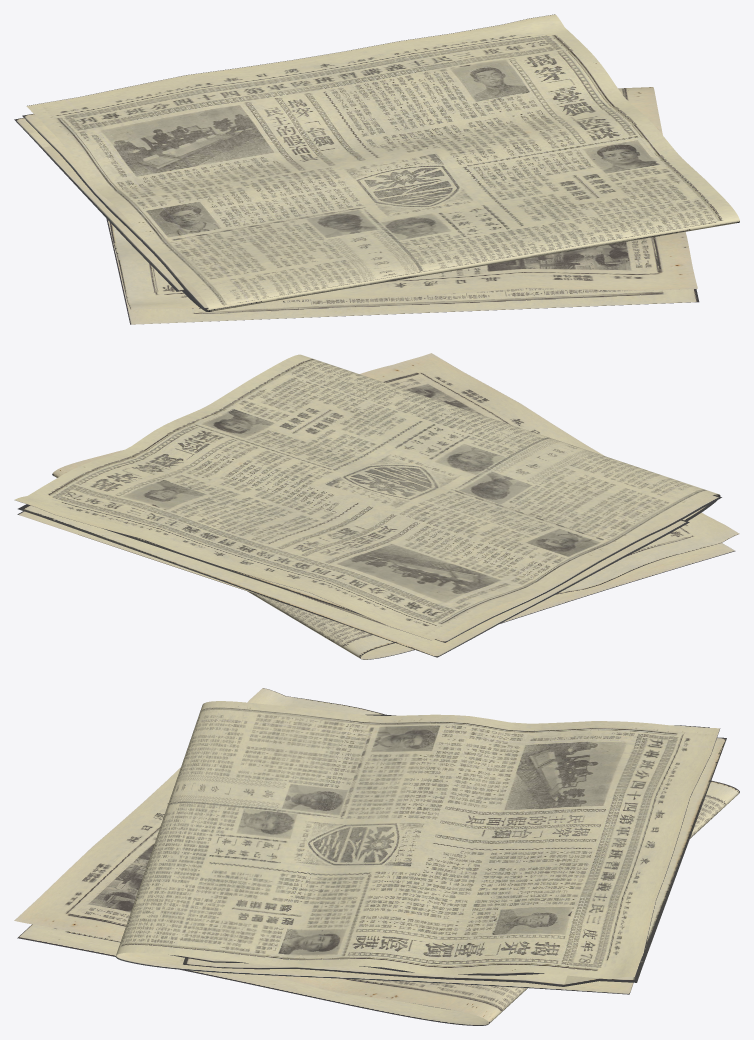
Rendered from newspaper.fbx.
The picture shows the model from 3 angles, top to bottom: view 1: azimuth 30°, elevation 25°; view 2: azimuth 150°, elevation 25°; view 3: azimuth 270°, elevation 25°; orthographic projection. The views are drawn at different scales.
Visible parts, largest first — view 1: newspaper_up, newspaper_down, Plane.002, Plane.003; view 2: newspaper_up, newspaper_down, Plane.002, Plane.003; view 3: newspaper_up, newspaper_down, Plane.002, Plane.003.
Boxes of the visible parts, left/top/right/bottom form: newspaper_up: left=26, top=14, right=739, bottom=311; newspaper_down: left=106, top=87, right=699, bottom=324; Plane.002: left=14, top=117, right=184, bottom=291; Plane.003: left=22, top=113, right=208, bottom=309; newspaper_up: left=14, top=354, right=720, bottom=640; newspaper_down: left=52, top=353, right=739, bottom=659; Plane.002: left=18, top=504, right=689, bottom=657; Plane.003: left=103, top=495, right=721, bottom=642; newspaper_up: left=115, top=701, right=720, bottom=994; newspaper_down: left=14, top=688, right=739, bottom=1025; Plane.002: left=183, top=714, right=726, bottom=986; Plane.003: left=170, top=725, right=709, bottom=975.
Size of the model in its own units: 82.55 by 5.39 by 78.29.
